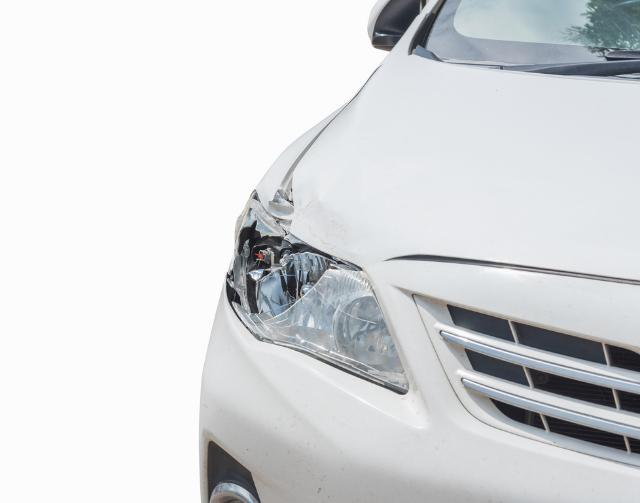Bonnet: (275, 172, 321, 230)
Light: (227, 231, 365, 337)
